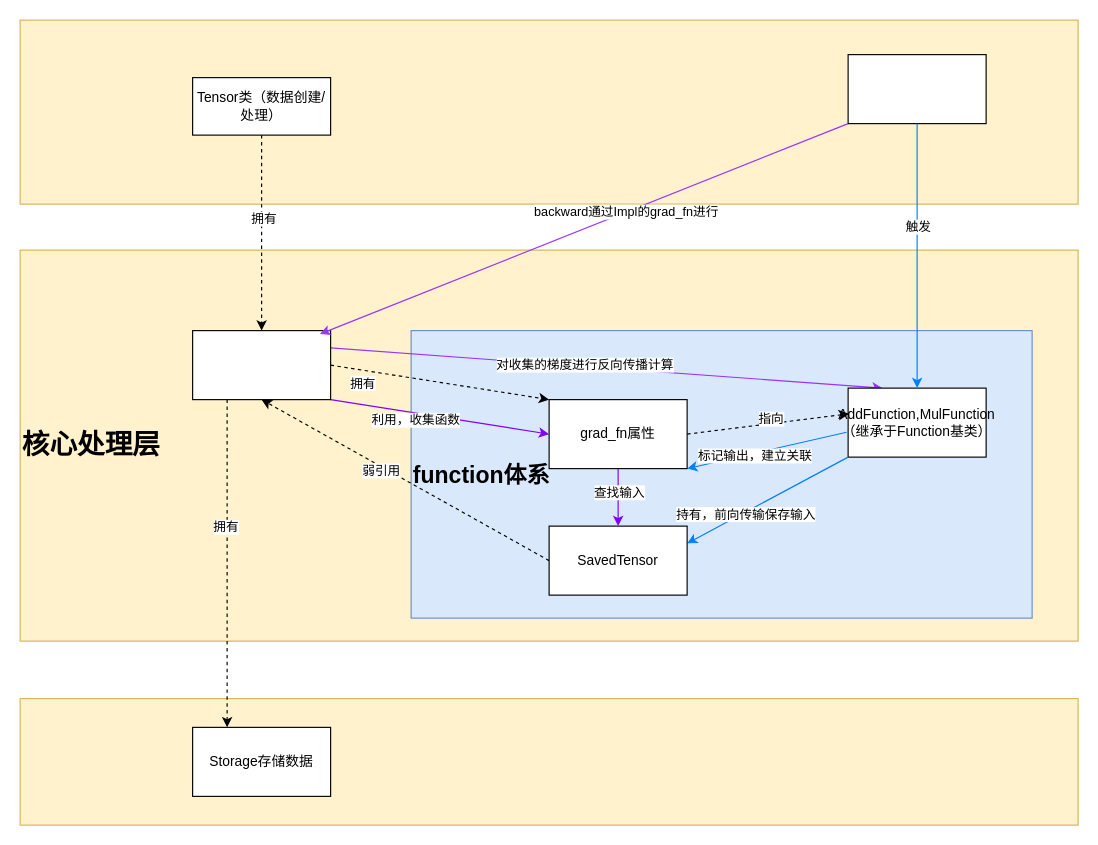
The diagram is 1098 pixels wide and 845 high, and some of its shapes have lost their labels. The shapes that lost their labels are listed below. From the top down, each one's box as (x1, y1, x2, y2) in pixels, then its label:
(847, 53, 986, 124): Tensor类重载的运算符
(19, 19, 1078, 204): 用户API
(191, 329, 331, 400): TensorImpl（数据/梯度/计算图节点）
(19, 697, 1078, 825): 底层数据层
